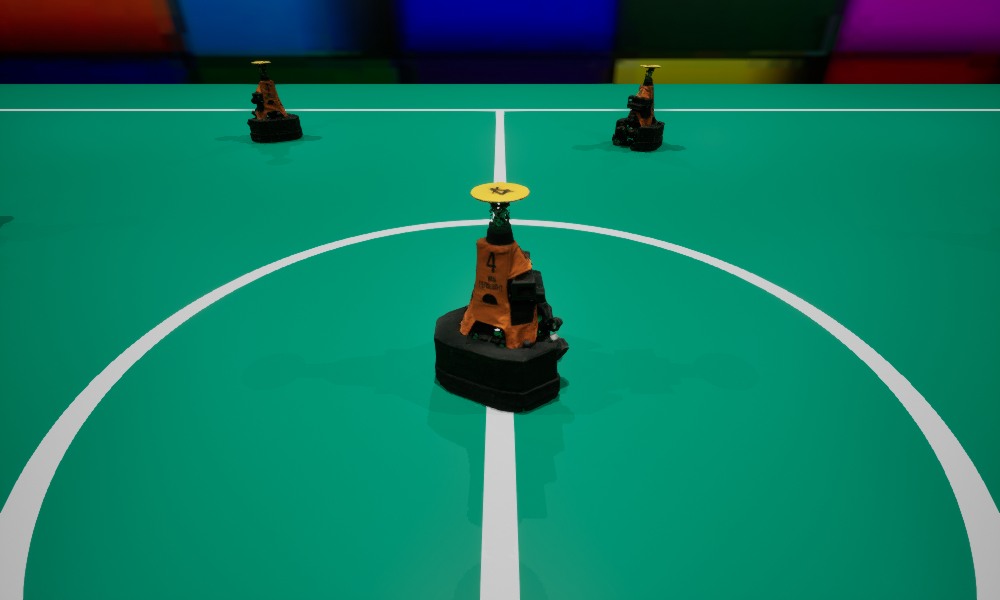o: (434, 182, 568, 412), (247, 61, 302, 142), (612, 65, 664, 150)
